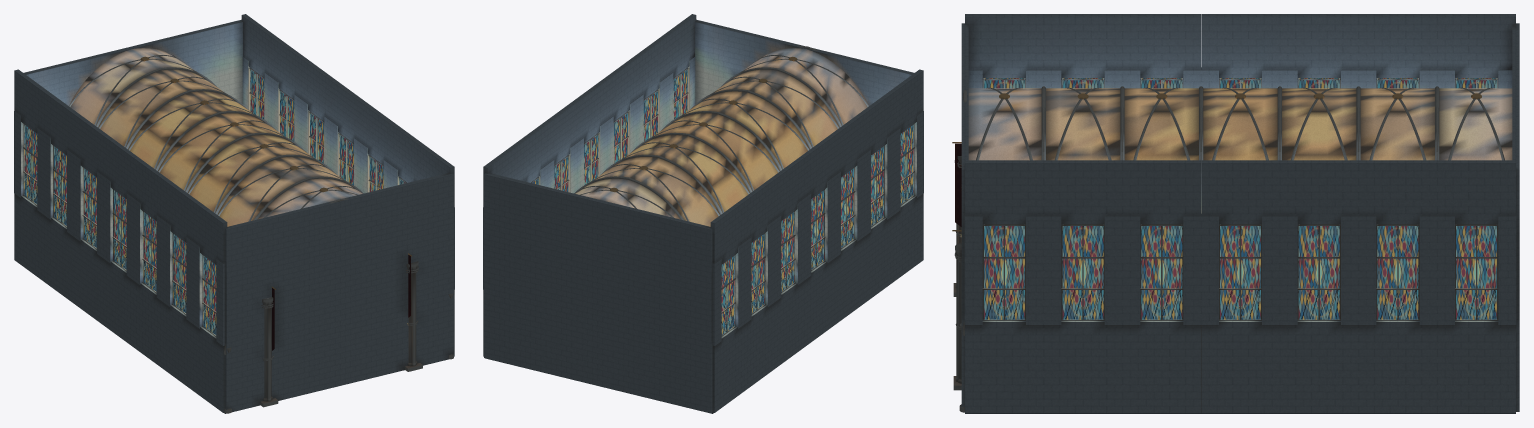
File: castle-hall.glb
3 renders of one model, left to right at view 1: azimuth 30°, elevation 25°; view 2: azimuth 150°, elevation 25°; view 3: azimuth 270°, elevation 25°, orthographic. The views are drawn at different scales.
Parts seen in each view (by area): view 1: SouthEnd__Dressed masonry, Bay05__Dressed masonry, Bay03__Dressed masonry, Bay06__Dressed masonry, Bay04__Dressed masonry, Bay02__Dressed masonry, Bay01__Dressed masonry, Bay00__Dressed masonry, NorthEnd__Dressed masonry, Bay06__Matte limestone, Bay04__Matte limestone, Bay02__Matte limestone (+11 smaller); view 2: NorthEnd__Dressed masonry, Bay03__Dressed masonry, Bay00__Dressed masonry, Bay04__Dressed masonry, Bay01__Dressed masonry, Bay02__Dressed masonry, Bay05__Dressed masonry, Bay06__Dressed masonry, SouthEnd__Dressed masonry, Bay02__Matte limestone, Bay04__Matte limestone, Bay03__Matte limestone (+11 smaller); view 3: Bay05__Dressed masonry, Bay01__Dressed masonry, Bay02__Dressed masonry, Bay03__Dressed masonry, Bay04__Dressed masonry, Bay00__Dressed masonry, Bay06__Dressed masonry, Bay00__Matte limestone, Bay01__Matte limestone, Bay04__Matte limestone, Bay03__Matte limestone, Bay02__Matte limestone (+12 smaller).
Part boxes in pixels (<box>): SouthEnd__Dressed masonry: <box>225,173,453,411</box>; Bay05__Dressed masonry: <box>44,36,304,303</box>; Bay03__Dressed masonry: <box>103,79,364,346</box>; Bay06__Dressed masonry: <box>14,14,275,281</box>; Bay04__Dressed masonry: <box>74,57,334,325</box>; Bay02__Dressed masonry: <box>133,101,394,368</box>; Bay01__Dressed masonry: <box>163,123,424,390</box>; Bay00__Dressed masonry: <box>193,145,454,412</box>; NorthEnd__Dressed masonry: <box>24,19,242,105</box>; Bay06__Matte limestone: <box>23,48,264,205</box>; Bay04__Matte limestone: <box>82,91,324,249</box>; Bay02__Matte limestone: <box>142,135,383,292</box>; NorthEnd__Dressed masonry: <box>484,173,712,413</box>; Bay03__Dressed masonry: <box>573,79,834,346</box>; Bay00__Dressed masonry: <box>662,14,923,281</box>; Bay04__Dressed masonry: <box>543,101,804,368</box>; Bay01__Dressed masonry: <box>633,36,893,303</box>; Bay02__Dressed masonry: <box>603,57,864,325</box>; Bay05__Dressed masonry: <box>513,123,774,390</box>; Bay06__Dressed masonry: <box>483,145,744,412</box>; SouthEnd__Dressed masonry: <box>695,19,913,105</box>; Bay02__Matte limestone: <box>613,89,855,249</box>; Bay04__Matte limestone: <box>554,132,795,292</box>; Bay03__Matte limestone: <box>584,111,825,270</box>; Bay05__Dressed masonry: <box>1358,14,1437,413</box>; Bay01__Dressed masonry: <box>1043,14,1122,413</box>; Bay02__Dressed masonry: <box>1122,14,1201,413</box>; Bay03__Dressed masonry: <box>1200,14,1280,413</box>; Bay04__Dressed masonry: <box>1279,14,1358,413</box>; Bay00__Dressed masonry: <box>964,14,1044,413</box>; Bay06__Dressed masonry: <box>1437,14,1516,413</box>; Bay00__Matte limestone: <box>953,78,1041,412</box>; Bay01__Matte limestone: <box>1041,78,1120,320</box>; Bay04__Matte limestone: <box>1277,78,1356,320</box>; Bay03__Matte limestone: <box>1199,78,1277,412</box>; Bay02__Matte limestone: <box>1120,78,1198,320</box>.
Bounding box in the file's own units: 22.45 × 17.69 × 36.03.
Materials: 9 (9 with a texture image).
